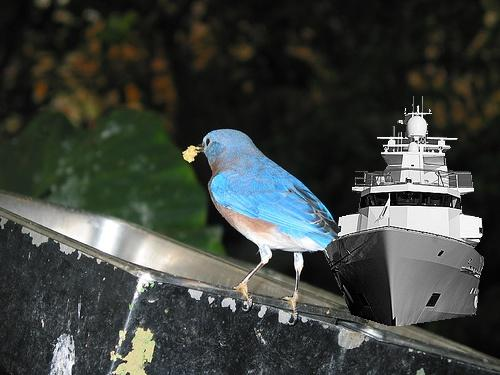tampered: (324, 97, 484, 326)
